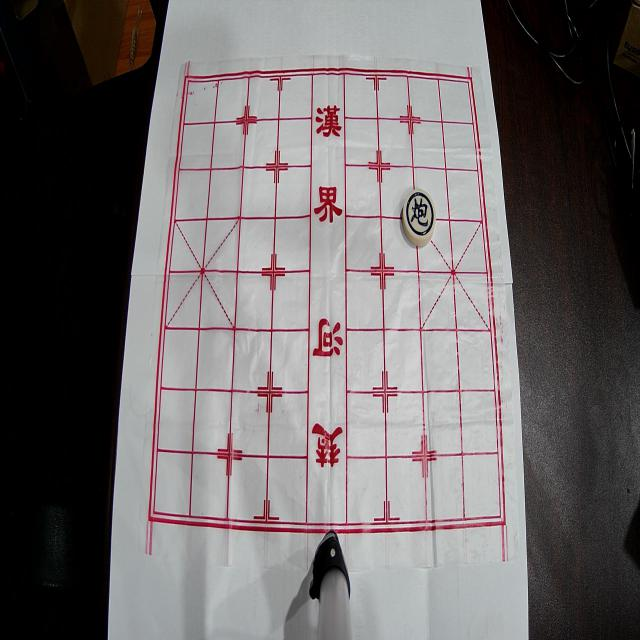black-cannon: (402, 188, 436, 246)
